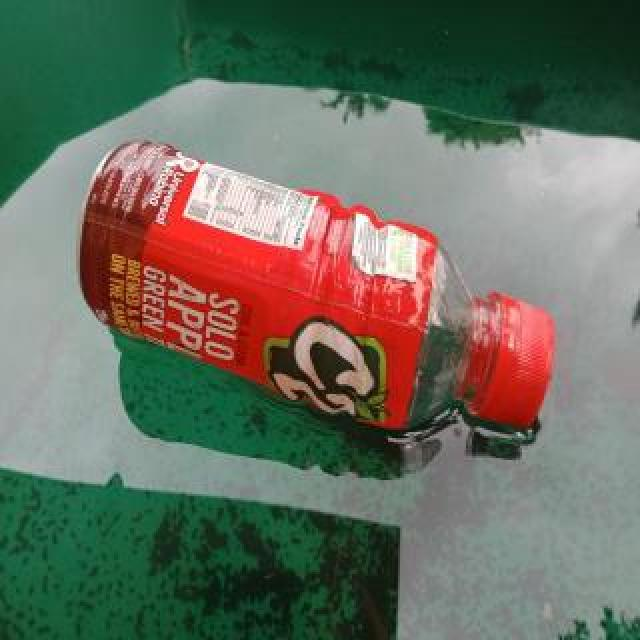bottle: (79, 129, 557, 453)
